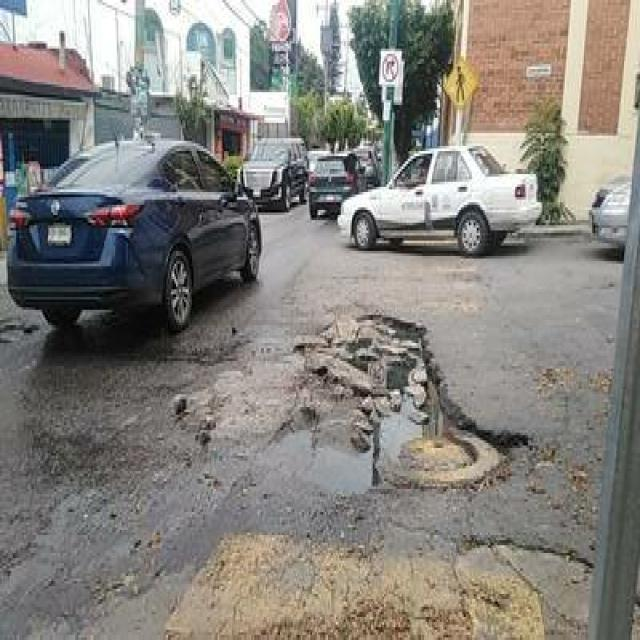pothole: (253, 302, 564, 548)
